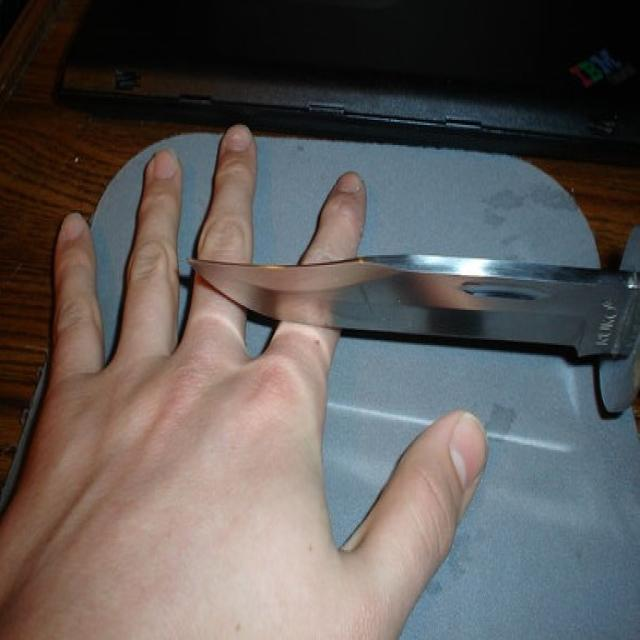knife: (183, 243, 640, 391)
